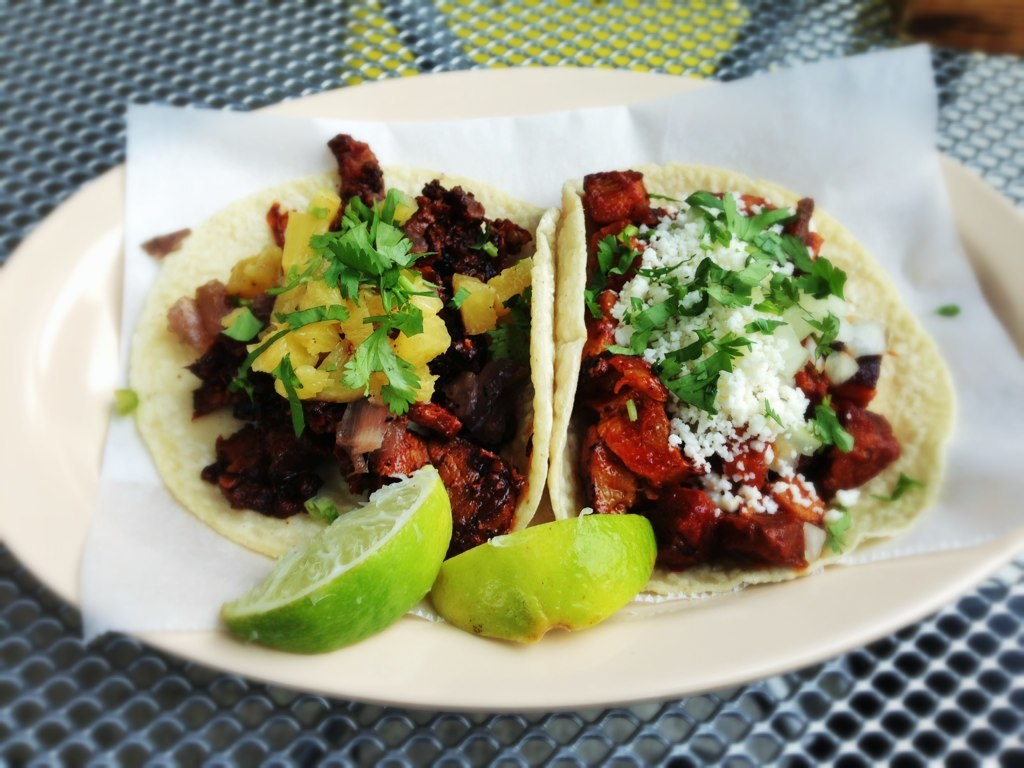taco: (127, 166, 575, 595), (545, 159, 962, 571)
